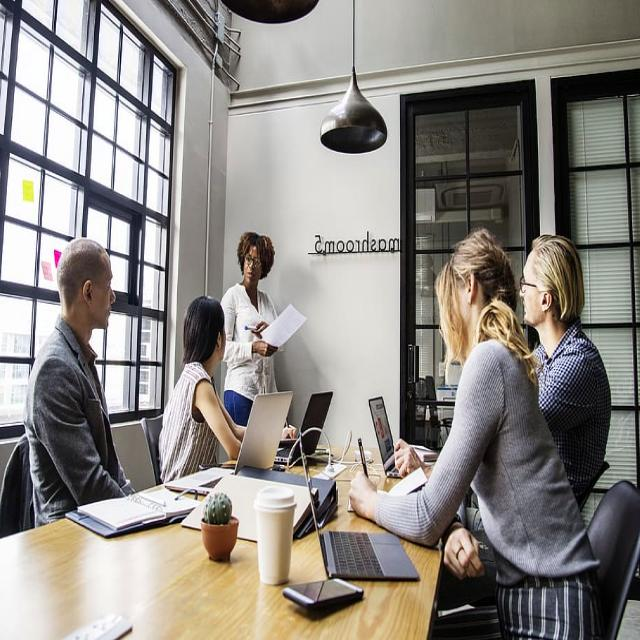adult: (351, 230, 595, 640), (26, 242, 134, 528), (515, 234, 609, 497), (160, 298, 247, 482), (218, 230, 289, 434)
